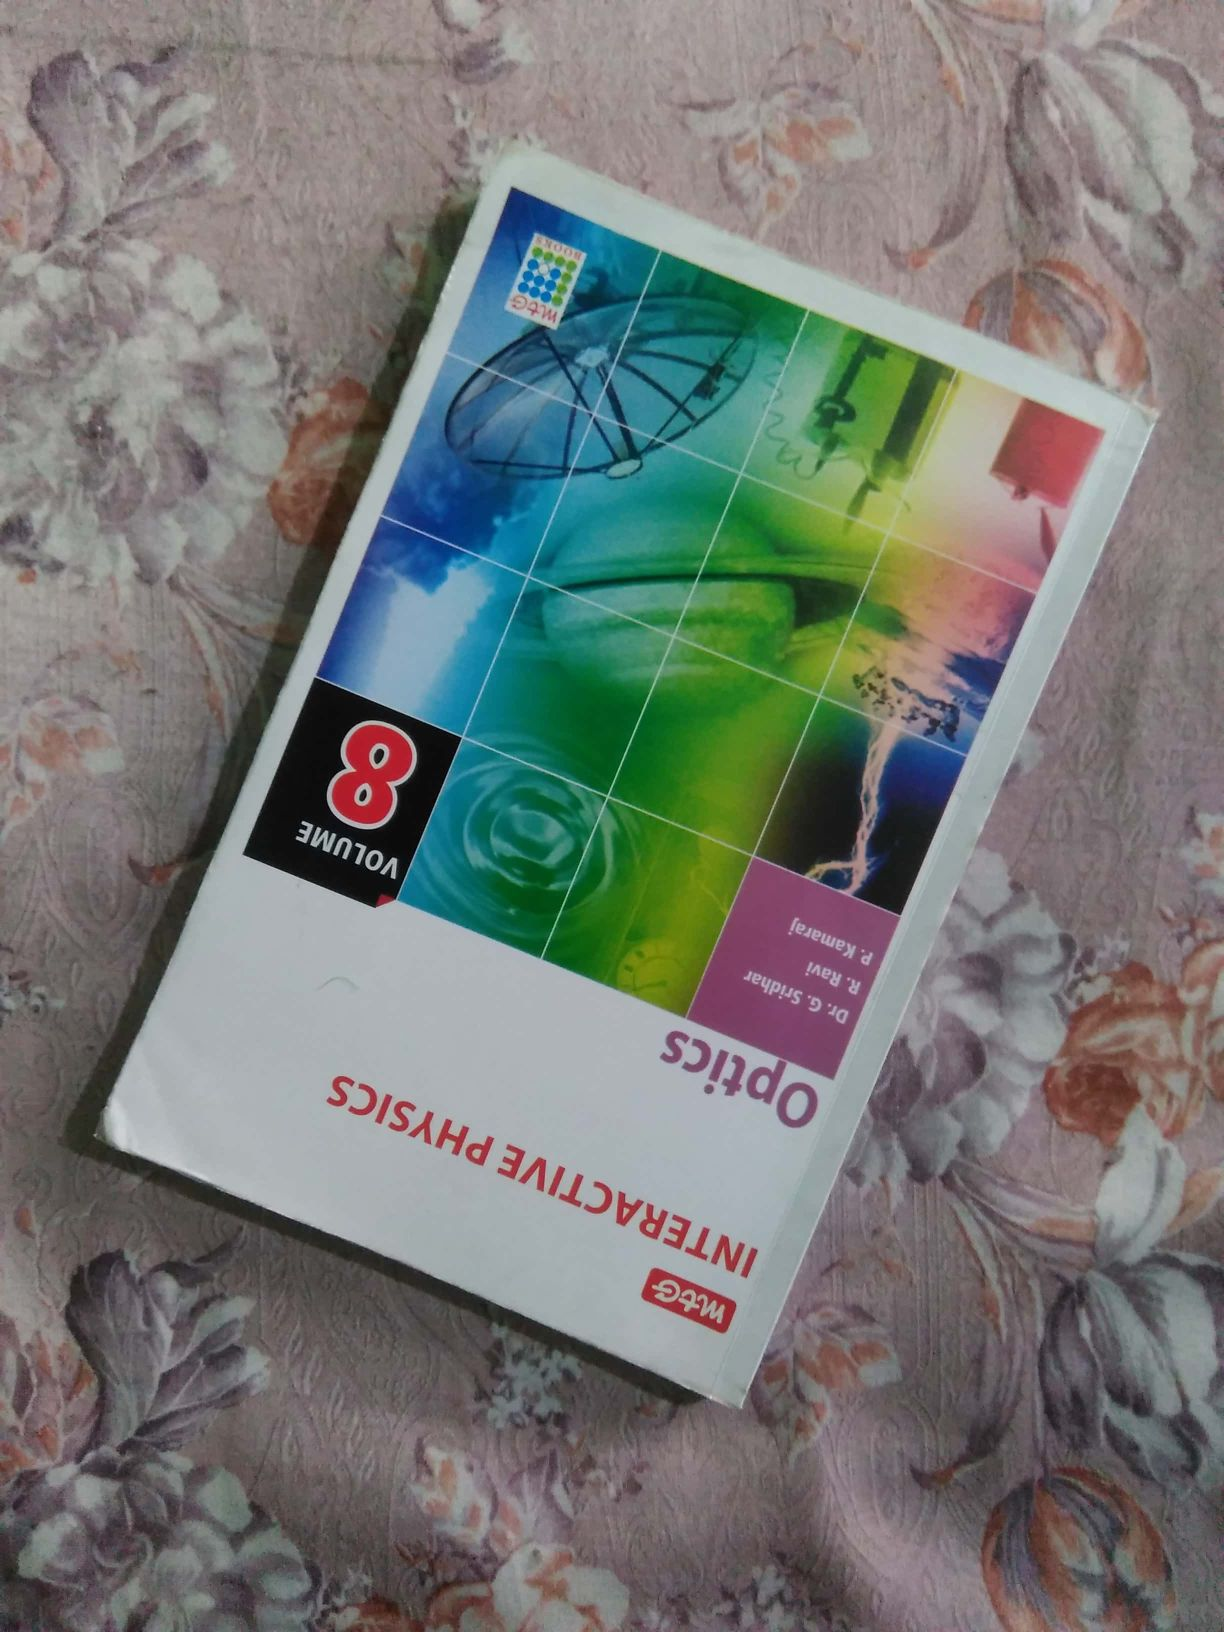optics: (134, 170, 1039, 1444)
